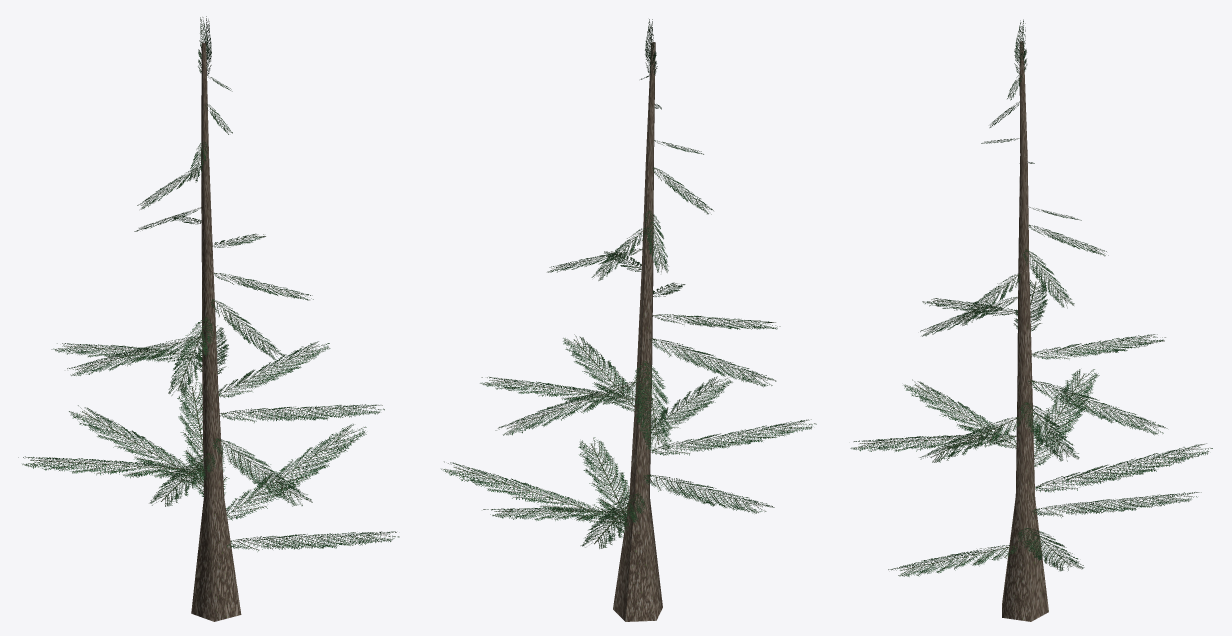
File: pinheiro_vd_b_lo.glb
The picture shows the model from 3 angles, left to right: view 1: azimuth 30°, elevation 25°; view 2: azimuth 150°, elevation 25°; view 3: azimuth 270°, elevation 25°; orthographic projection.
Parts seen in each view (by area): view 1: pinheiro_vd_b_lo; view 2: pinheiro_vd_b_lo; view 3: pinheiro_vd_b_lo.
Boxes of the visible parts, x1,y1,x2,y2 form: pinheiro_vd_b_lo: (18, 16, 399, 621); pinheiro_vd_b_lo: (441, 19, 816, 621); pinheiro_vd_b_lo: (850, 19, 1212, 621).
Size of the model in its own units: 6.09 by 10.01 by 5.68.
2 materials, 2 textured.
